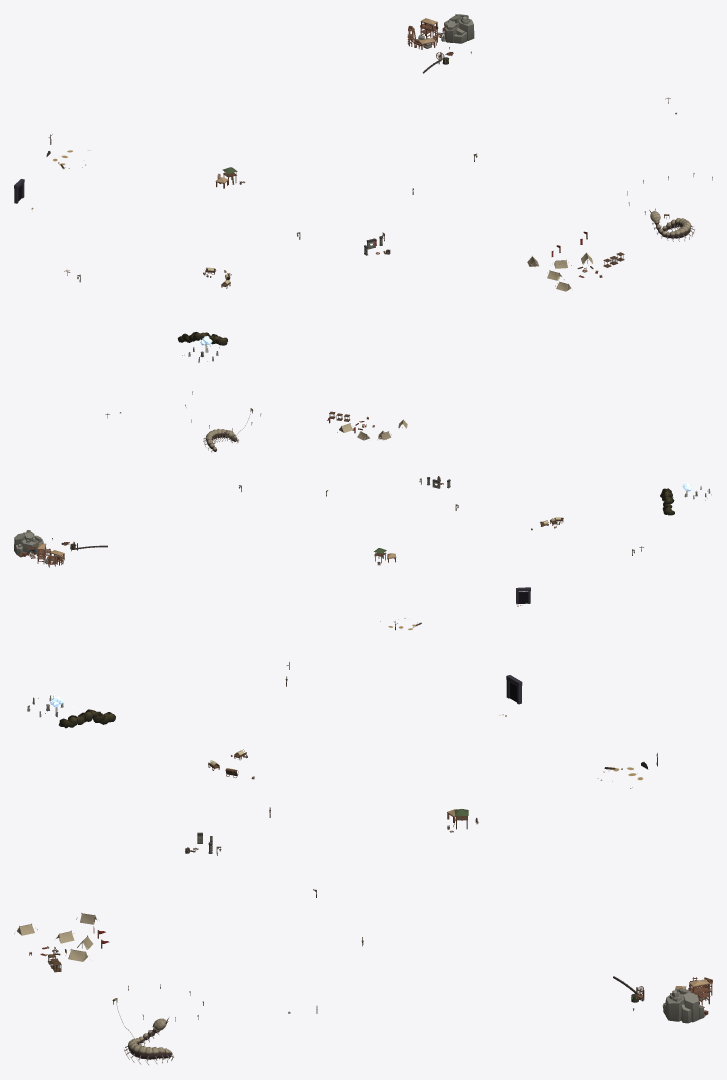
File: landmarks.glb
The picture shows the model from 3 angles, top to bottom: view 1: azimuth 30°, elevation 25°; view 2: azimuth 150°, elevation 25°; view 3: azimuth 270°, elevation 25°; orthographic projection. The views are drawn at different scales.
Size of the model in its own units: 261 by 30.39 by 212.
89 materials, 6 textured.
